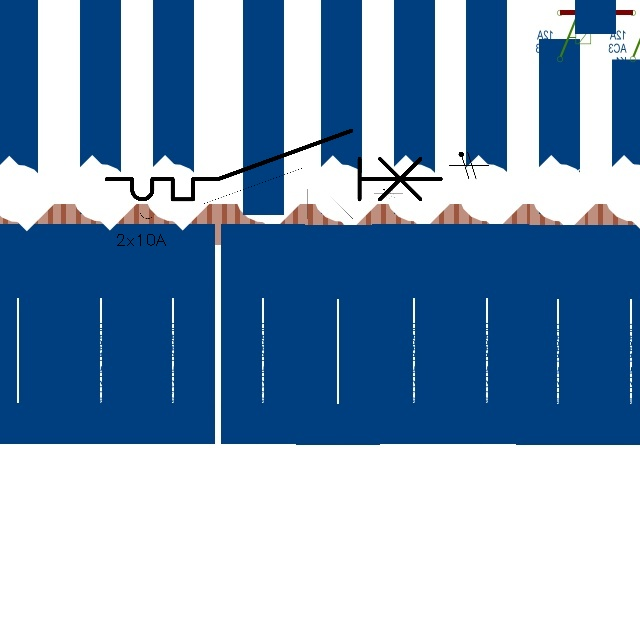interruptor_termomagnetico: (98, 122, 449, 208), (115, 162, 374, 225)
